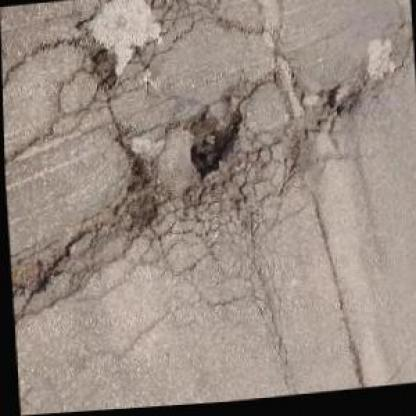pothole: (179, 118, 247, 186), (121, 159, 164, 233), (8, 251, 61, 300), (313, 84, 365, 124), (80, 46, 120, 92)
